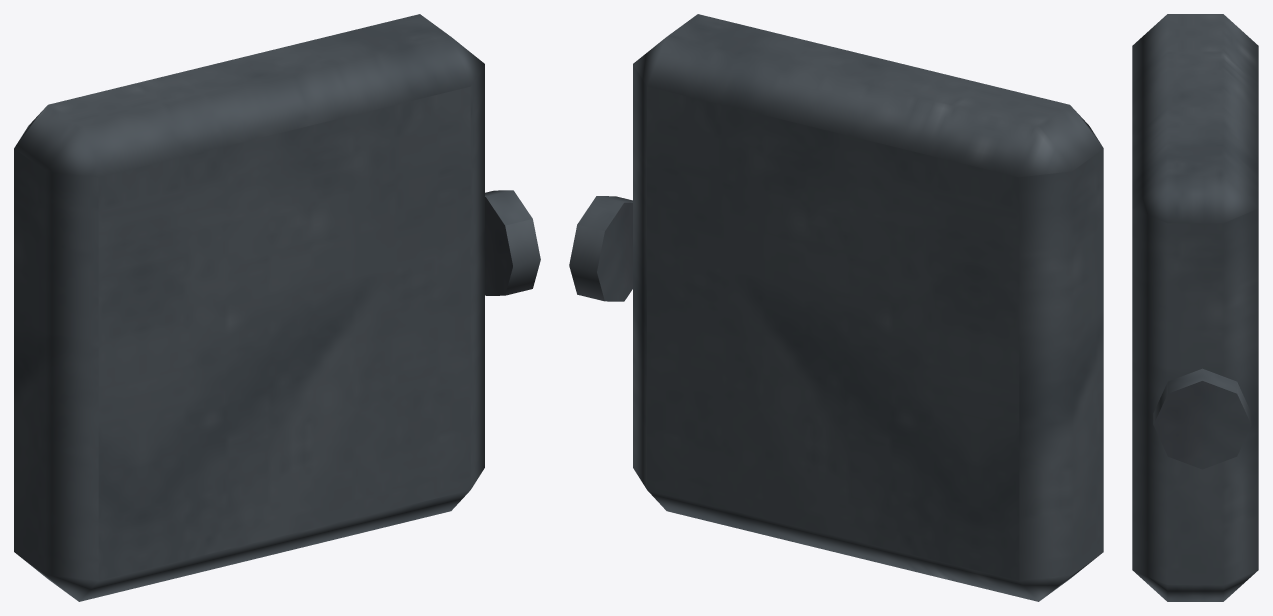
File: prop_privacy_curtain.fbx
3 renders of one model, left to right at view 1: azimuth 30°, elevation 25°; view 2: azimuth 150°, elevation 25°; view 3: azimuth 270°, elevation 25°, orthographic. The views are drawn at different scales.
Parts seen in each view (by area): view 1: SM_prop_privacy_curtain; view 2: SM_prop_privacy_curtain; view 3: SM_prop_privacy_curtain.
Part boxes in pixels (x1,y1,x2,y2): SM_prop_privacy_curtain: (14,14,540,601); SM_prop_privacy_curtain: (569,14,1103,601); SM_prop_privacy_curtain: (1132,14,1258,601).
Size of the model in its own units: 0.0721 by 0.067 by 0.018.
2 materials, 2 textured.
